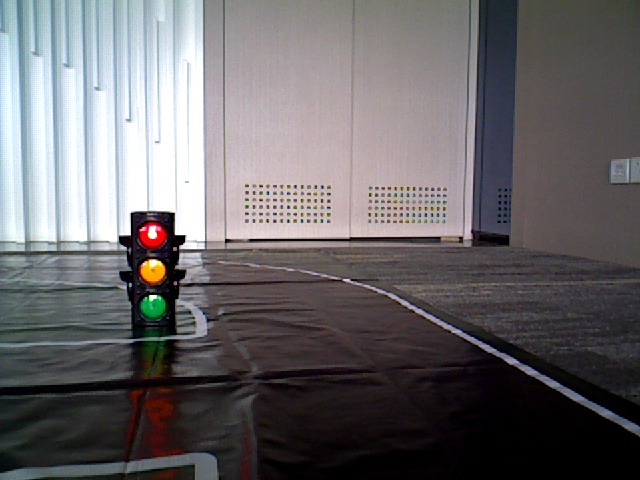red: (132, 215, 175, 324)
